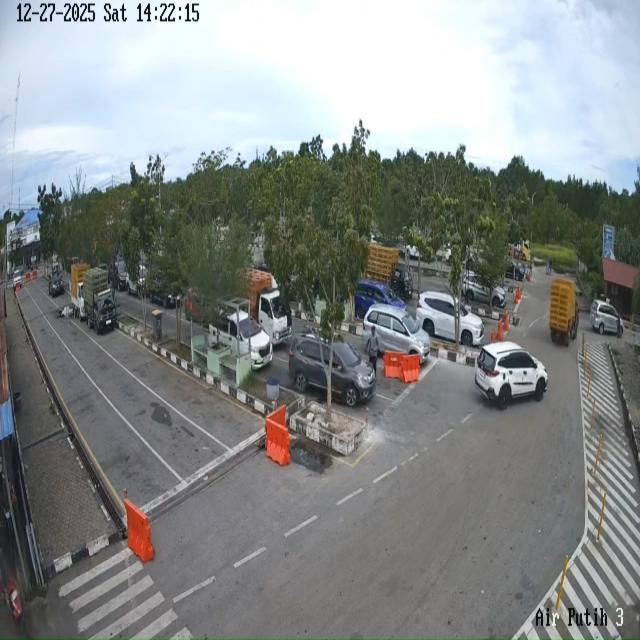Golongan IVA: (288, 330, 376, 407), (475, 342, 548, 409), (363, 304, 430, 364), (209, 310, 273, 370), (416, 291, 484, 347), (354, 279, 406, 320), (462, 272, 507, 308), (589, 299, 618, 335), (48, 272, 65, 298)
Golongan IVB: (365, 243, 413, 299), (83, 267, 117, 334), (549, 279, 579, 347), (70, 262, 90, 321)
